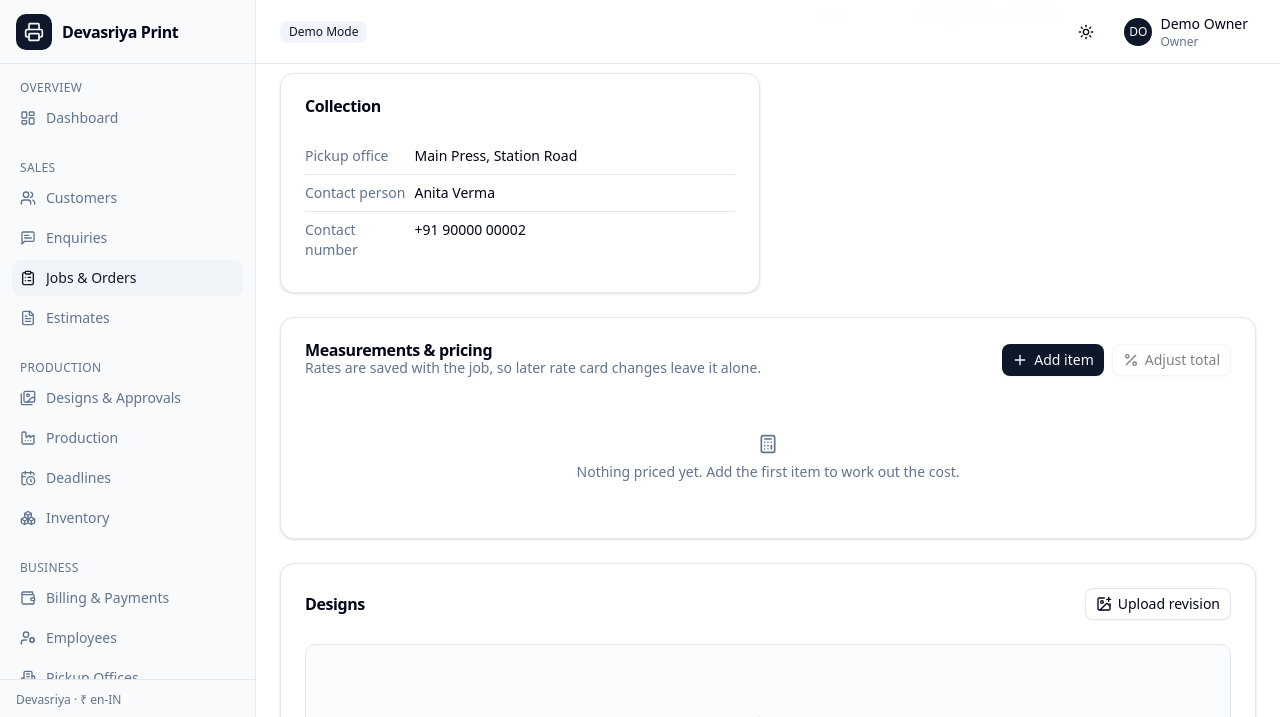
it: demo pricing › adds a priced item in memory
The width and height of the screenshot is (1280, 717).
(page scrolled)
Expected: the text "Measurements & pricing" is shown, [305,339,492,361]
Click the button "Add item" at coordinates (1053, 360), box [1002,344,1104,376]
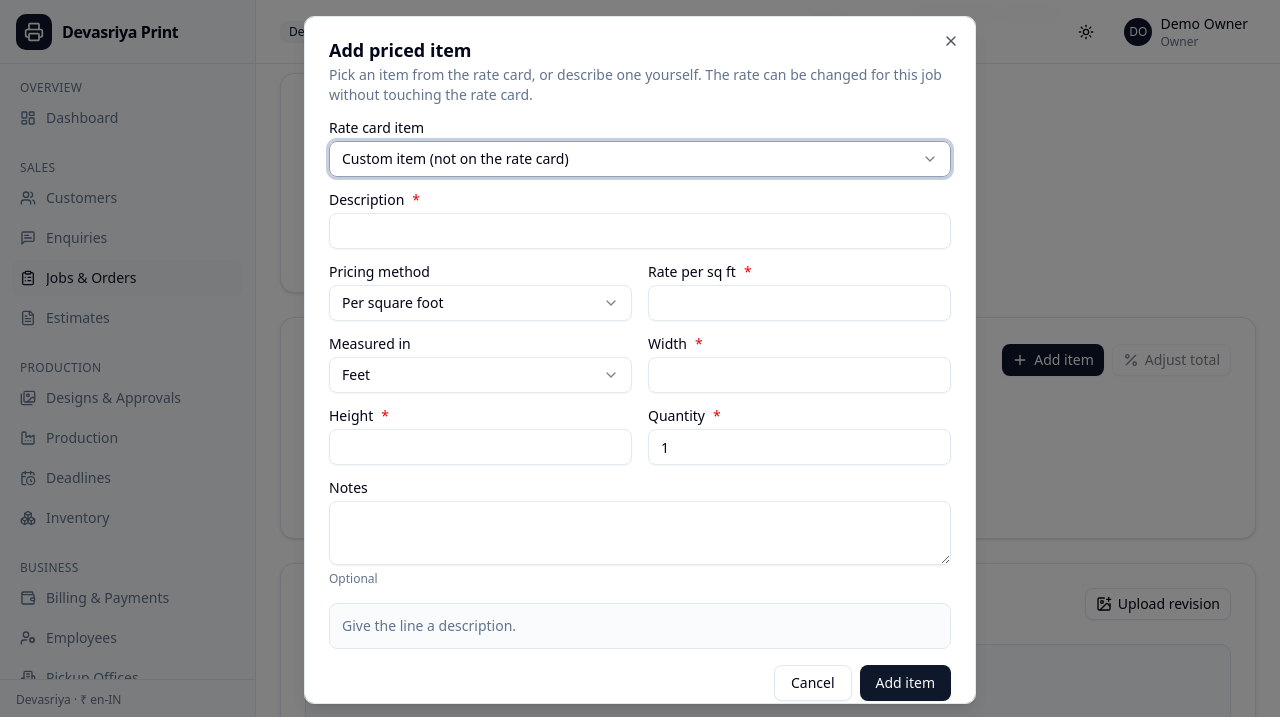
Click the dropdown named "rate card item" at coordinates (455, 158), box [329,141,951,177]
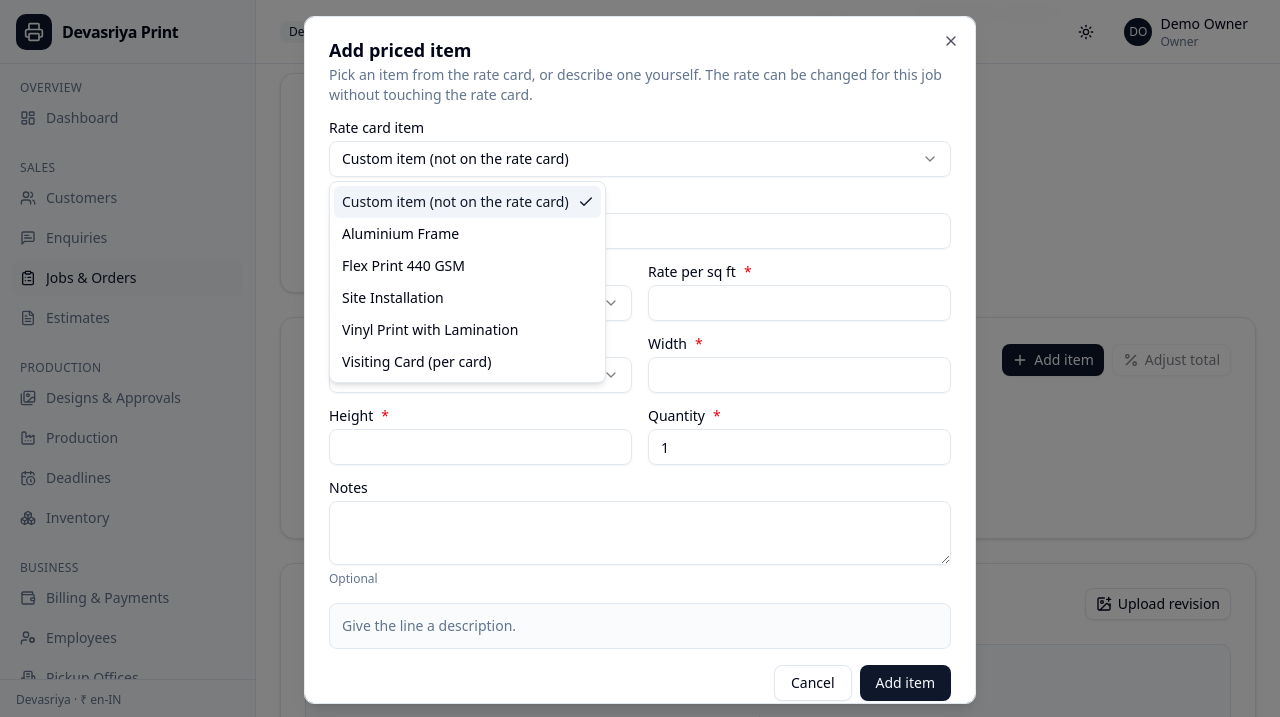
Click the option "Flex Print 440 GSM" at coordinates (404, 266), box [342,256,465,275]
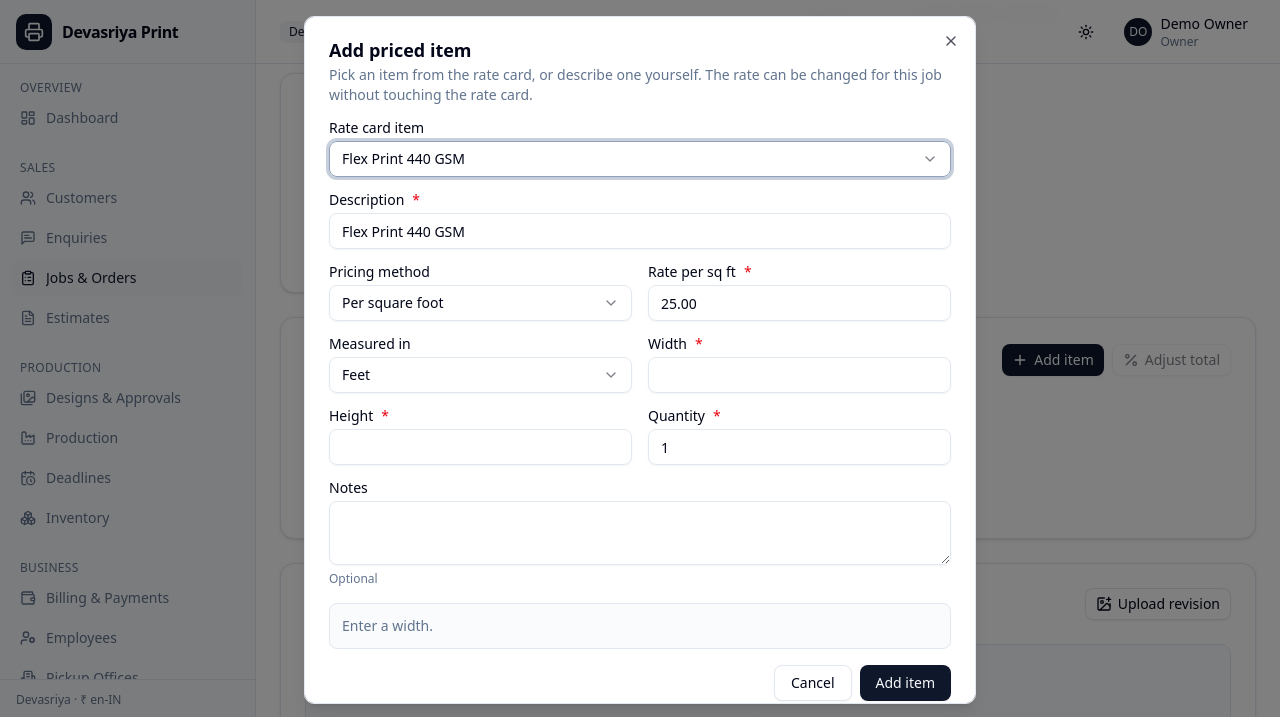
Type "4" into the field labelled "Width *" at coordinates (800, 375), box [648,357,951,393]
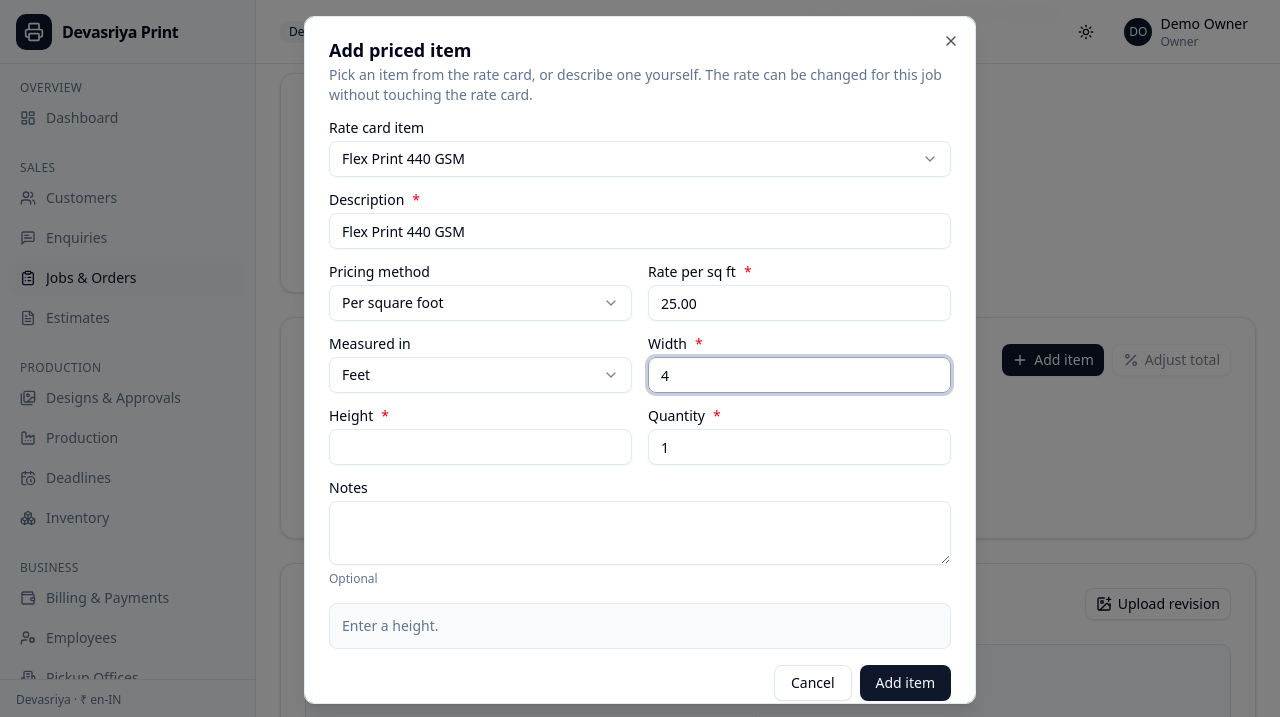
Type "3" into the field labelled "Height *" at coordinates (480, 447), box [329,429,632,465]
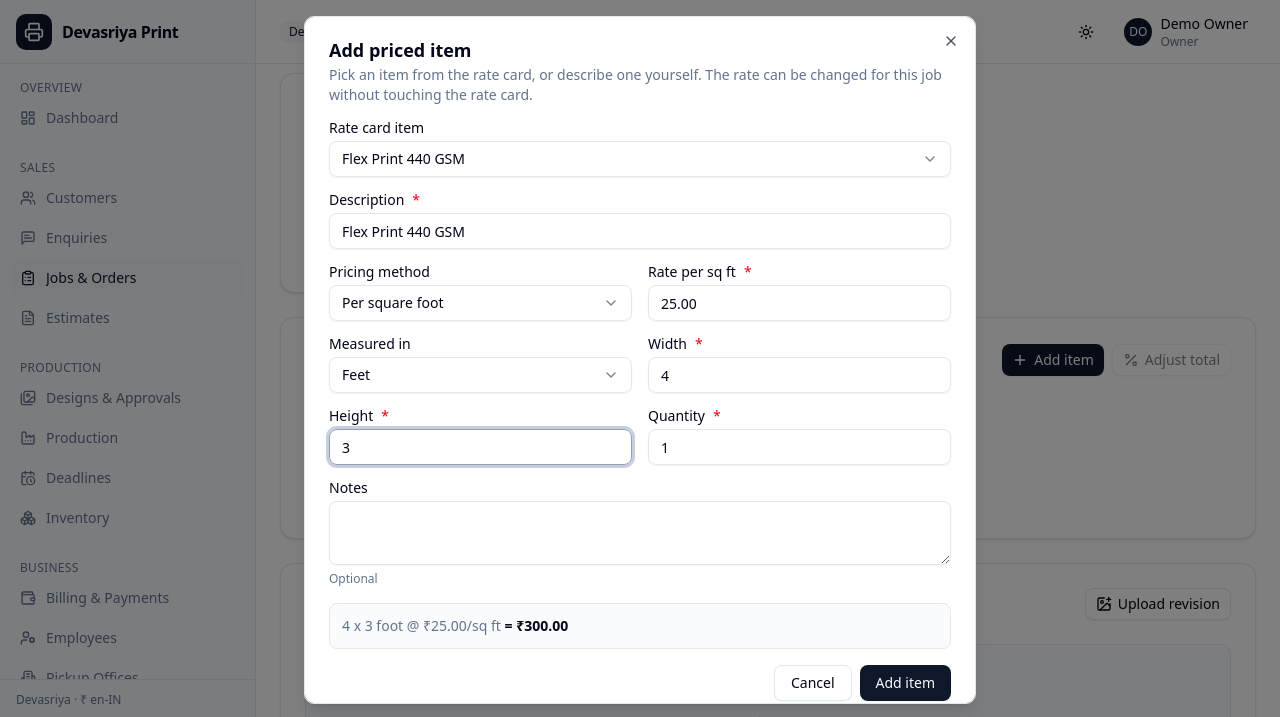
Click the button "Add item" at coordinates (905, 683), box [860,665,951,701]
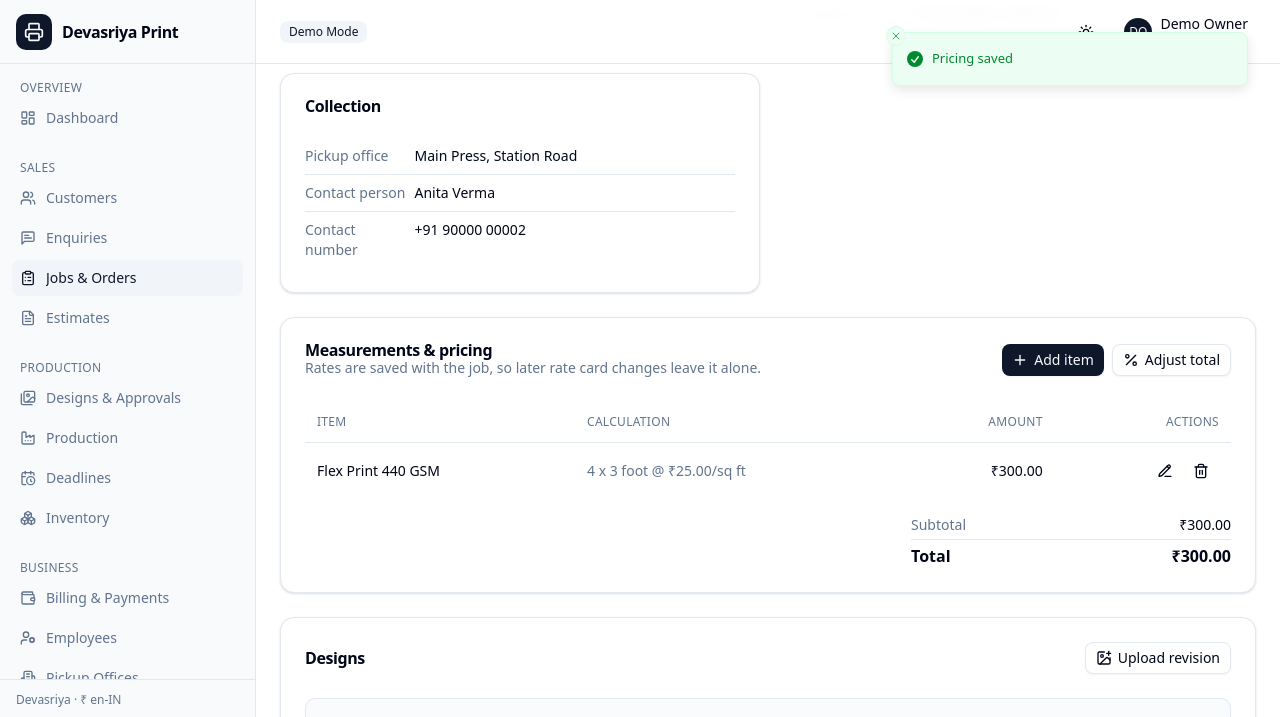
Expected: the text "₹300.00" is shown, [911,442,1055,498]
